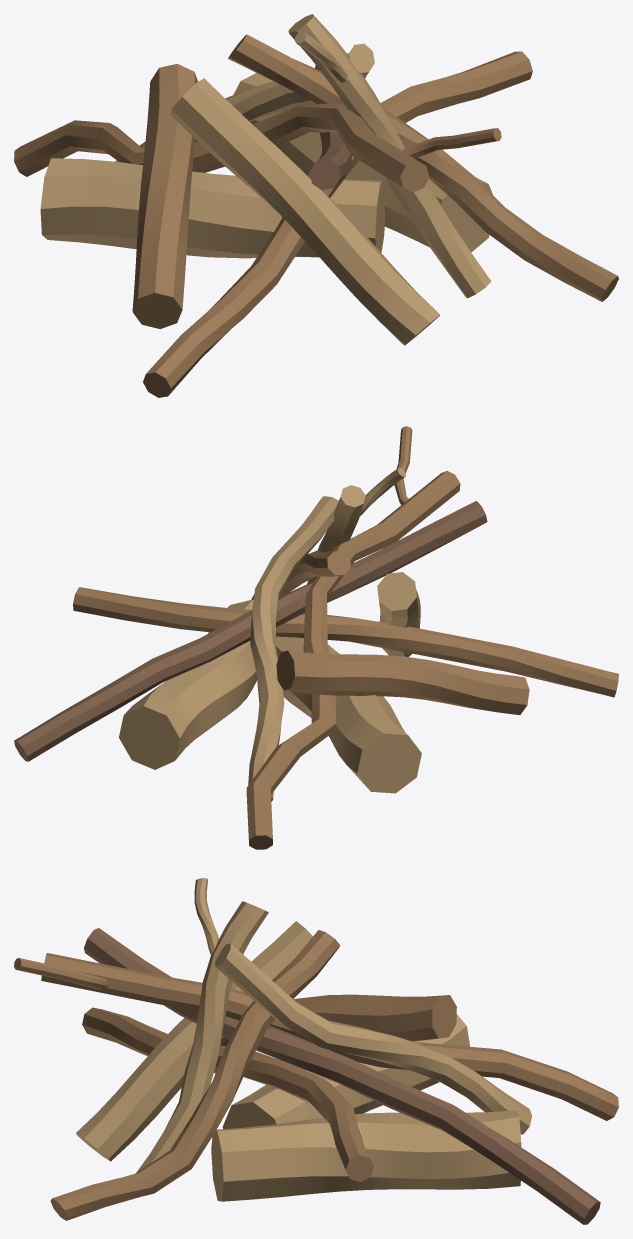
The model's file is atoll_bundleBranch.fbx.
The picture shows the model from 3 angles, top to bottom: view 1: azimuth 30°, elevation 25°; view 2: azimuth 150°, elevation 25°; view 3: azimuth 270°, elevation 25°; orthographic projection. The views are drawn at different scales.
Parts seen in each view (by area): view 1: Wood2, Wood4, Wood10, Wood12, Wood6, Wood11, Wood9, Wood1, Wood8, Wood5, Wood3, Wood7; view 2: Wood12, Wood5, Wood10, Wood11, Wood1, Wood2, Wood8, Wood4, Wood9, Wood6, Wood3, Wood7; view 3: Wood1, Wood5, Wood6, Wood11, Wood8, Wood4, Wood12, Wood9, Wood10, Wood2, Wood3, Wood7.
Part boxes in pixels (x1,y1,x2,y2): Wood2: (40,158,385,258); Wood4: (170,78,439,345); Wood10: (132,63,198,328); Wood12: (143,51,532,397); Wood6: (228,34,618,301); Wood11: (14,103,429,192); Wood9: (288,14,491,298); Wood1: (233,73,492,252); Wood8: (115,43,374,161); Wood5: (309,53,351,190); Wood3: (401,128,501,158); Wood7: (294,32,348,82); Wood12: (73,587,618,697); Wood5: (14,501,487,761); Wood10: (276,650,529,715); Wood11: (246,470,460,849); Wood1: (119,599,256,769); Wood2: (276,636,421,793); Wood8: (248,496,338,801); Wood4: (377,572,420,656); Wood9: (307,485,365,584); Wood6: (251,550,350,599); Wood3: (394,426,412,504); Wood7: (360,468,405,515); Wood1: (211,1110,521,1201); Wood5: (84,928,600,1224); Wood6: (50,930,340,1220); Wood11: (41,953,618,1120); Wood8: (215,943,531,1134); Wood4: (76,921,312,1161); Wood12: (82,1007,373,1181); Wood9: (136,901,268,1172); Wood10: (221,994,456,1046); Wood2: (222,1014,469,1128); Wood3: (14,958,108,989); Wood7: (194,878,218,954).
Size of the model in its own units: 101 by 53.74 by 111.
